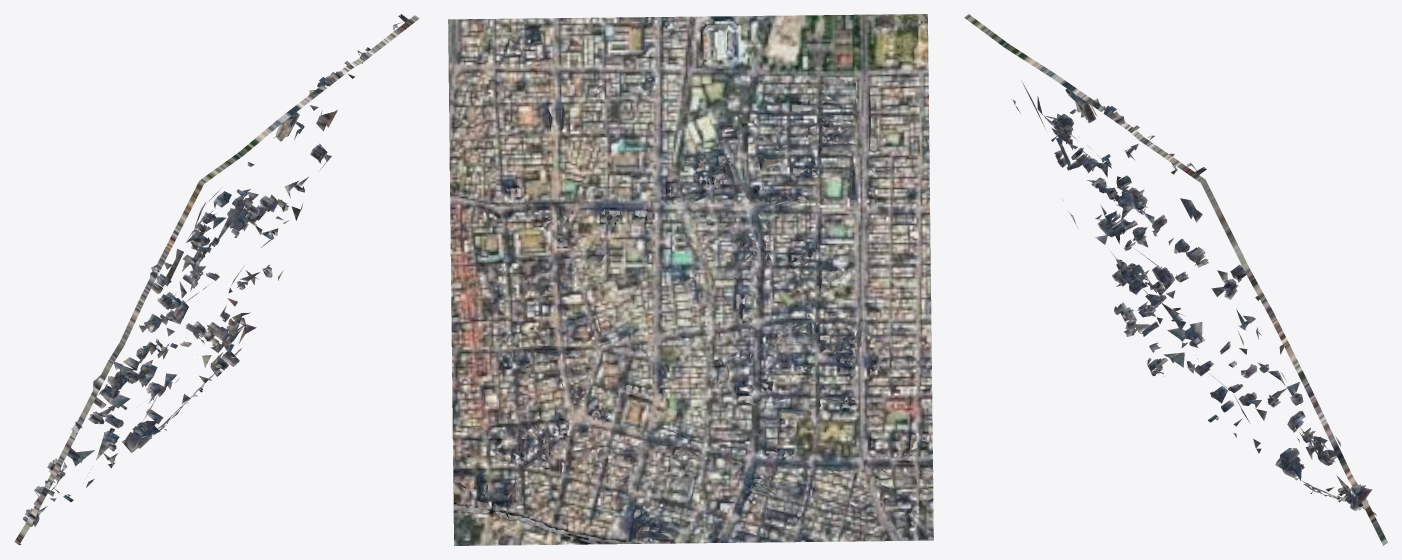
3 views of the same model, side by side, from view 1: azimuth 30°, elevation 25°; view 2: azimuth 150°, elevation 25°; view 3: azimuth 270°, elevation 25° (orthographic). The views are drawn at different scales.
Size of the model in its own units: 2454 by 2240 by 2063.
Materials: 2 (2 with a texture image).
